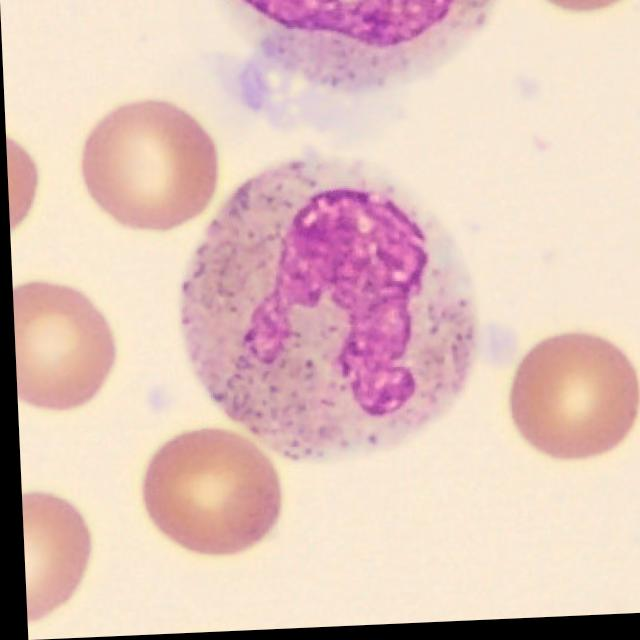Neutrofilo segmentado: (177, 152, 474, 461)
